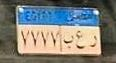7: (21, 29, 30, 49), (40, 31, 50, 48), (50, 30, 59, 48), (31, 30, 39, 47)
ain: (74, 29, 86, 51)
baa: (62, 32, 74, 50)
raa: (88, 34, 98, 50)
